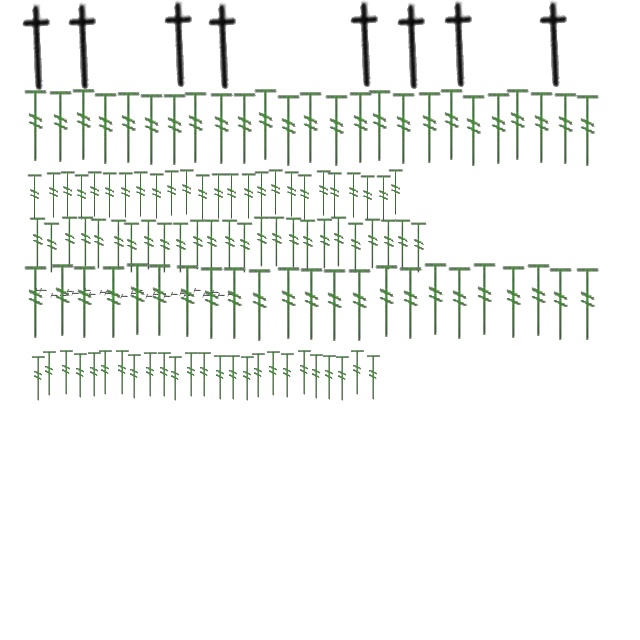enseble_chain: (58, 2, 110, 92), (154, 0, 206, 90), (198, 2, 250, 92), (387, 2, 439, 92), (434, 0, 486, 90), (529, 0, 581, 90), (12, 4, 64, 92), (340, 0, 392, 88), (34, 288, 42, 294), (39, 288, 47, 294), (83, 288, 91, 294), (88, 292, 96, 298), (99, 290, 107, 296), (111, 292, 119, 298), (120, 294, 128, 300), (135, 288, 143, 294), (145, 294, 153, 300), (152, 292, 160, 298), (163, 294, 171, 300), (170, 292, 178, 298), (193, 288, 201, 294), (211, 290, 219, 296), (227, 292, 235, 298), (50, 294, 58, 298), (59, 294, 67, 298), (66, 290, 74, 294), (71, 292, 79, 296), (104, 292, 112, 296), (130, 292, 138, 296), (179, 292, 187, 296), (183, 294, 191, 298), (202, 294, 210, 298), (217, 294, 225, 298)
fan: (22, 88, 50, 164), (115, 90, 143, 166), (138, 92, 166, 168), (161, 92, 189, 168), (182, 90, 210, 166), (297, 90, 325, 166), (347, 90, 375, 166), (366, 88, 394, 164), (416, 90, 444, 166), (528, 90, 556, 166), (22, 264, 50, 340), (49, 262, 77, 338), (71, 264, 99, 340), (100, 264, 128, 340), (124, 261, 152, 337), (146, 262, 174, 338), (174, 263, 202, 339), (198, 265, 226, 341), (221, 265, 249, 341), (246, 267, 274, 343), (275, 265, 303, 341), (298, 266, 326, 342), (321, 267, 349, 343), (346, 267, 374, 343), (373, 263, 401, 339), (397, 265, 425, 341), (422, 261, 450, 337), (446, 265, 474, 341), (471, 261, 499, 337), (500, 264, 528, 340), (525, 262, 553, 338), (547, 266, 575, 342), (574, 266, 602, 342), (47, 90, 75, 164), (70, 88, 98, 162), (92, 92, 120, 166), (208, 92, 236, 166), (231, 92, 259, 166), (252, 88, 280, 162), (275, 94, 303, 168), (323, 94, 351, 168), (390, 92, 418, 166), (438, 88, 466, 162), (460, 94, 488, 168), (485, 92, 513, 166), (504, 88, 532, 162), (552, 92, 580, 166), (574, 94, 602, 168), (28, 216, 48, 270), (109, 218, 129, 272), (139, 218, 159, 272), (188, 218, 208, 272), (202, 218, 222, 272), (220, 218, 240, 272), (284, 216, 304, 270), (298, 218, 318, 272), (379, 218, 399, 272), (393, 218, 413, 272), (42, 222, 62, 274), (60, 216, 80, 268), (76, 216, 96, 268), (89, 218, 109, 270), (122, 222, 142, 274), (155, 222, 175, 274), (171, 222, 191, 274), (235, 222, 255, 274), (252, 216, 272, 268), (267, 216, 287, 268), (315, 218, 335, 270), (329, 216, 349, 268), (346, 222, 366, 274), (363, 218, 383, 270), (409, 222, 429, 274), (30, 354, 48, 404), (58, 348, 76, 398), (86, 350, 104, 400), (114, 348, 132, 398), (126, 352, 144, 402), (142, 350, 160, 400), (156, 350, 174, 400), (196, 350, 214, 400), (296, 348, 314, 398), (308, 352, 326, 402), (334, 354, 352, 404), (26, 173, 44, 221), (45, 171, 63, 219), (59, 170, 77, 218), (73, 173, 91, 221), (86, 170, 104, 218), (101, 171, 119, 219), (117, 171, 135, 219), (132, 170, 150, 218), (148, 172, 166, 220), (163, 169, 181, 217), (178, 168, 196, 216), (194, 173, 212, 221), (210, 172, 228, 220), (223, 172, 241, 220), (240, 172, 258, 220), (253, 170, 271, 218), (267, 168, 285, 216), (283, 170, 301, 218), (296, 173, 314, 221), (315, 169, 333, 217), (326, 171, 344, 219), (345, 171, 363, 219), (359, 174, 377, 222), (375, 174, 393, 222), (387, 168, 405, 216), (72, 352, 90, 400), (212, 354, 230, 402), (250, 352, 268, 400), (98, 348, 114, 398), (168, 354, 184, 404), (184, 350, 200, 400), (240, 354, 256, 404), (350, 348, 366, 398), (42, 350, 58, 398), (226, 354, 242, 402), (266, 350, 282, 398), (280, 352, 296, 400), (322, 354, 338, 402), (366, 354, 382, 402)
